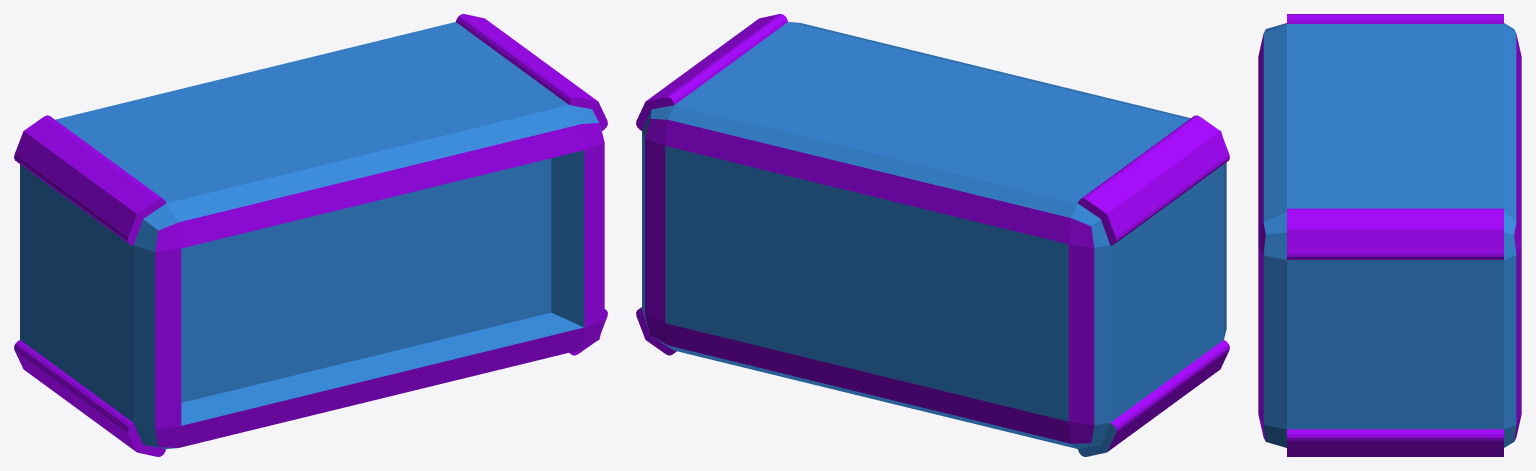
File: MenuButton.glb
The picture shows the model from 3 angles, left to right: view 1: azimuth 30°, elevation 25°; view 2: azimuth 150°, elevation 25°; view 3: azimuth 270°, elevation 25°; orthographic projection. The views are drawn at different scales.
Visible parts, largest first — view 1: Botão; view 2: Botão; view 3: Botão.
Part boxes in pixels (x1,y1,x2,y2): Botão: [14, 14, 607, 456]; Botão: [636, 14, 1229, 456]; Botão: [1258, 14, 1521, 456].
Size of the model in its own units: 2.05 by 1.05 by 1.02.
